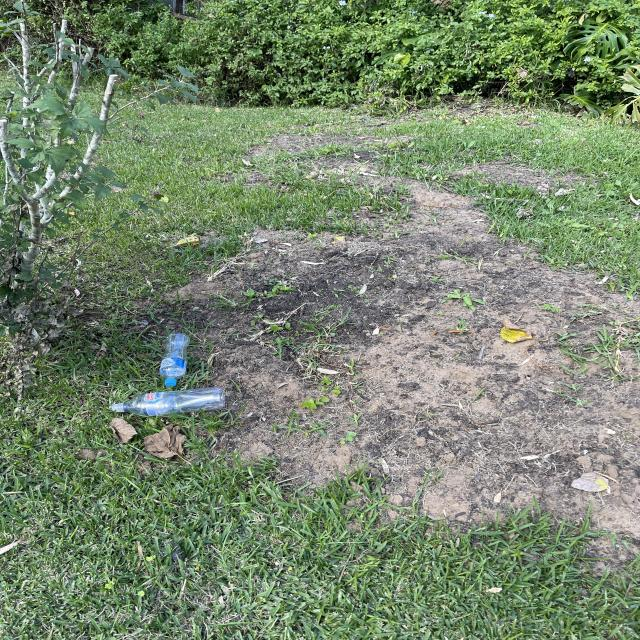bottle: (108, 385, 230, 416), (158, 333, 190, 386)
